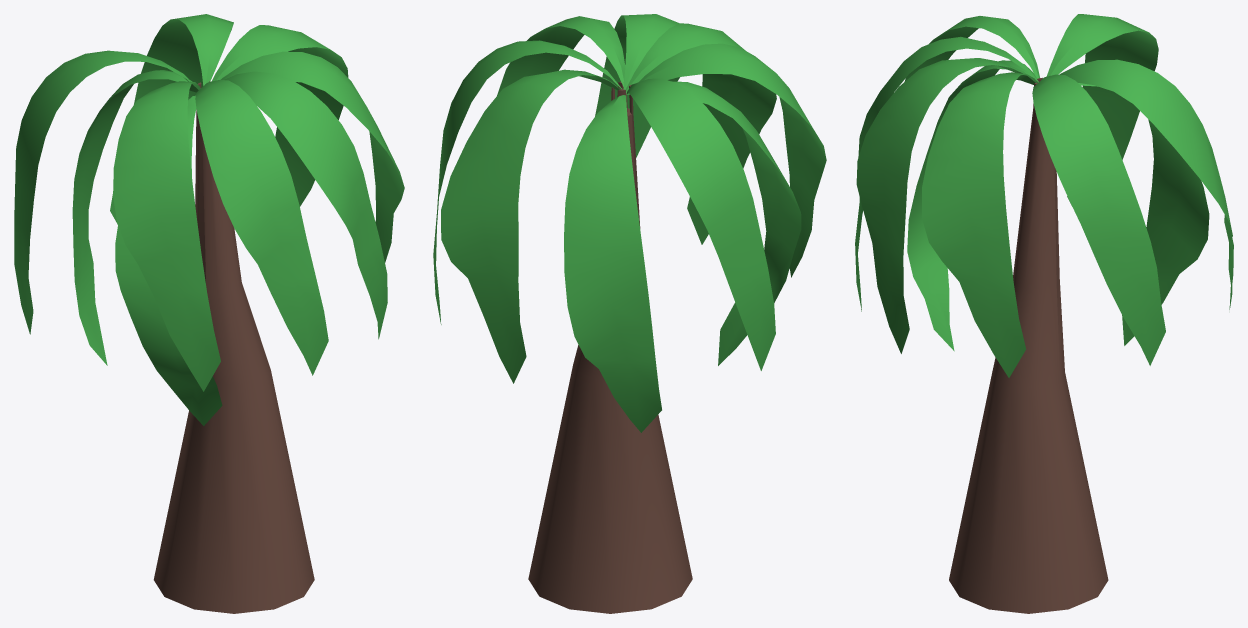
The model's file is PalmTree2.fbx.
3 views of the same model, side by side, from view 1: azimuth 30°, elevation 25°; view 2: azimuth 150°, elevation 25°; view 3: azimuth 270°, elevation 25° (orthographic). The views are drawn at different scales.
Parts seen in each view (by area): view 1: palmTree2; view 2: palmTree2; view 3: palmTree2.
Part boxes in pixels (bbox=[...]): palmTree2: bbox=[14, 14, 404, 613]; palmTree2: bbox=[433, 14, 826, 613]; palmTree2: bbox=[855, 14, 1233, 613].
Bounding box in the file's own units: 241 × 376 × 249.
